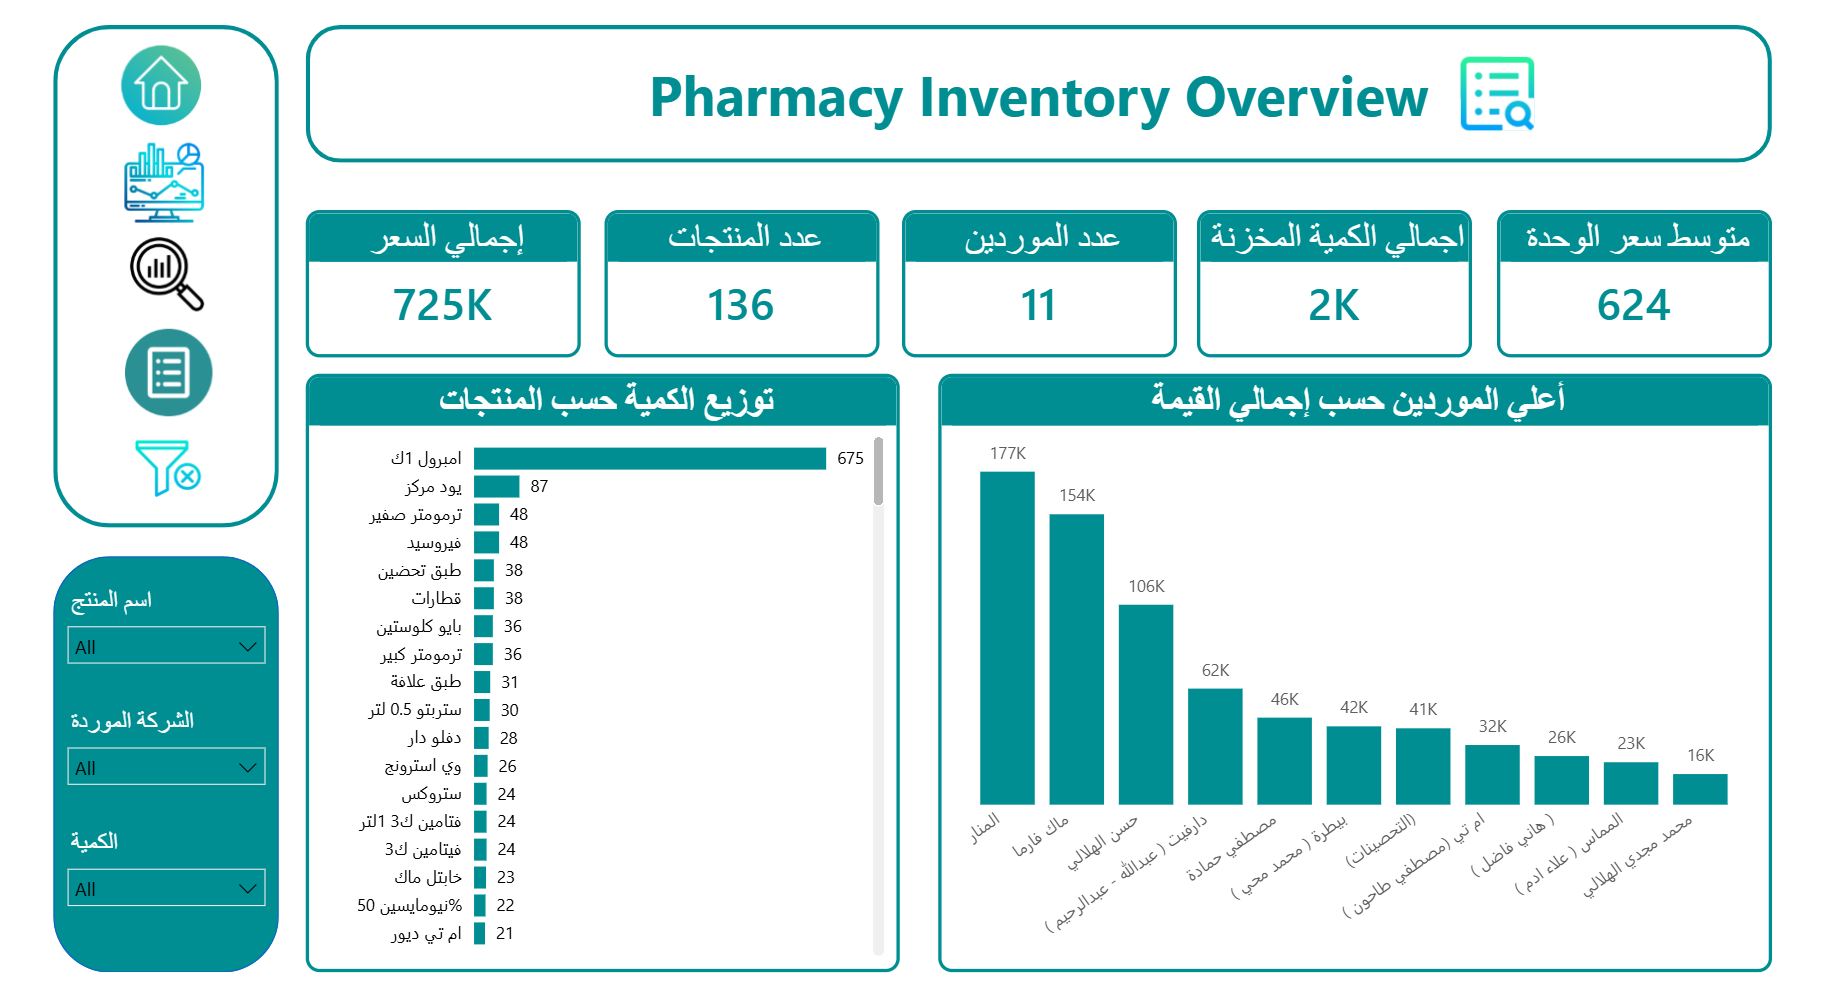

What the dashboard file says about the page in this screenshot:
{"tool":"powerbi","page":{"name":"Overview","canvas":[1280,720],"ordinal":1},"visuals":[{"type":"cardVisual","title":"إجمالي السعر","fields":{"Data":["Sum(المخزون.إجمالي السعر)"]},"box":[203.1,152.3,200.3,107],"z":0},{"type":"shape","box":[19.4,17.9,164.1,365.4],"z":1000},{"type":"shape","box":[203.1,17.8,1066.2,100.2],"z":2000},{"type":"cardVisual","title":"عدد المنتجات","fields":{"Data":["CountNonNull(المخزون.اسم المنتج)"]},"box":[419.9,152.3,200.3,107],"z":3000},{"type":"cardVisual","title":"عدد الموردين","fields":{"Data":["Count(المخزون.الشركة الموردة )"]},"box":[636.7,152.3,200.3,107],"z":4000},{"type":"cardVisual","title":"اجمالي الكمية المخزنة","fields":{"Data":["Sum(المخزون.الكمية)"]},"box":[850.8,152.3,200.3,107],"z":5000},{"type":"cardVisual","title":"متوسط سعر الوحدة","fields":{"Data":["Avg(المخزون.سعر الوحدة )"]},"box":[1069,152.3,200.3,107],"z":6000},{"type":"columnChart","title":"أعلي الموردين حسب إجمالي القيمة","fields":{"Category":["المخزون.الشركة الموردة "],"Y":["Sum(المخزون.إجمالي السعر)"]},"box":[662.8,271.7,606.5,435],"z":7000},{"type":"barChart","title":"توزيع الكمية حسب المنتجات","fields":{"Category":["المخزون.اسم المنتج"],"Y":["Sum(المخزون.الكمية)"]},"box":[203.1,271.7,432.2,435],"z":8000},{"type":"actionButton","box":[62.2,25.7,71.6,73],"z":9000},{"type":"actionButton","box":[63.5,98.6,71.6,67.6],"z":10000},{"type":"actionButton","box":[70.3,309.5,68.9,62.2],"z":11000},{"type":"actionButton","box":[1027.8,37,82.3,61.7],"z":17000},{"type":"actionButton","box":[67.6,232.4,71.6,77],"z":18000},{"type":"actionButton","box":[66.2,166.2,71.6,66.2],"z":19000}]}

Visuals, with their boxes in screenshot pixels (x1, y1, x2, y2):
"إجمالي السعر" cardVisual: l=305, t=207, r=577, b=352
shape: l=55, t=24, r=278, b=521
shape: l=305, t=24, r=1753, b=160
"عدد المنتجات" cardVisual: l=599, t=207, r=871, b=352
"عدد الموردين" cardVisual: l=894, t=207, r=1166, b=352
"اجمالي الكمية المخزنة" cardVisual: l=1184, t=207, r=1456, b=352
"متوسط سعر الوحدة" cardVisual: l=1481, t=207, r=1753, b=352
"أعلي الموردين حسب إجمالي القيمة" columnChart: l=929, t=369, r=1753, b=960
"توزيع الكمية حسب المنتجات" barChart: l=305, t=369, r=892, b=960
actionButton: l=113, t=35, r=210, b=134
actionButton: l=115, t=134, r=212, b=226
actionButton: l=124, t=420, r=218, b=505
actionButton: l=1425, t=50, r=1537, b=134
actionButton: l=120, t=316, r=218, b=420
actionButton: l=119, t=226, r=216, b=316
